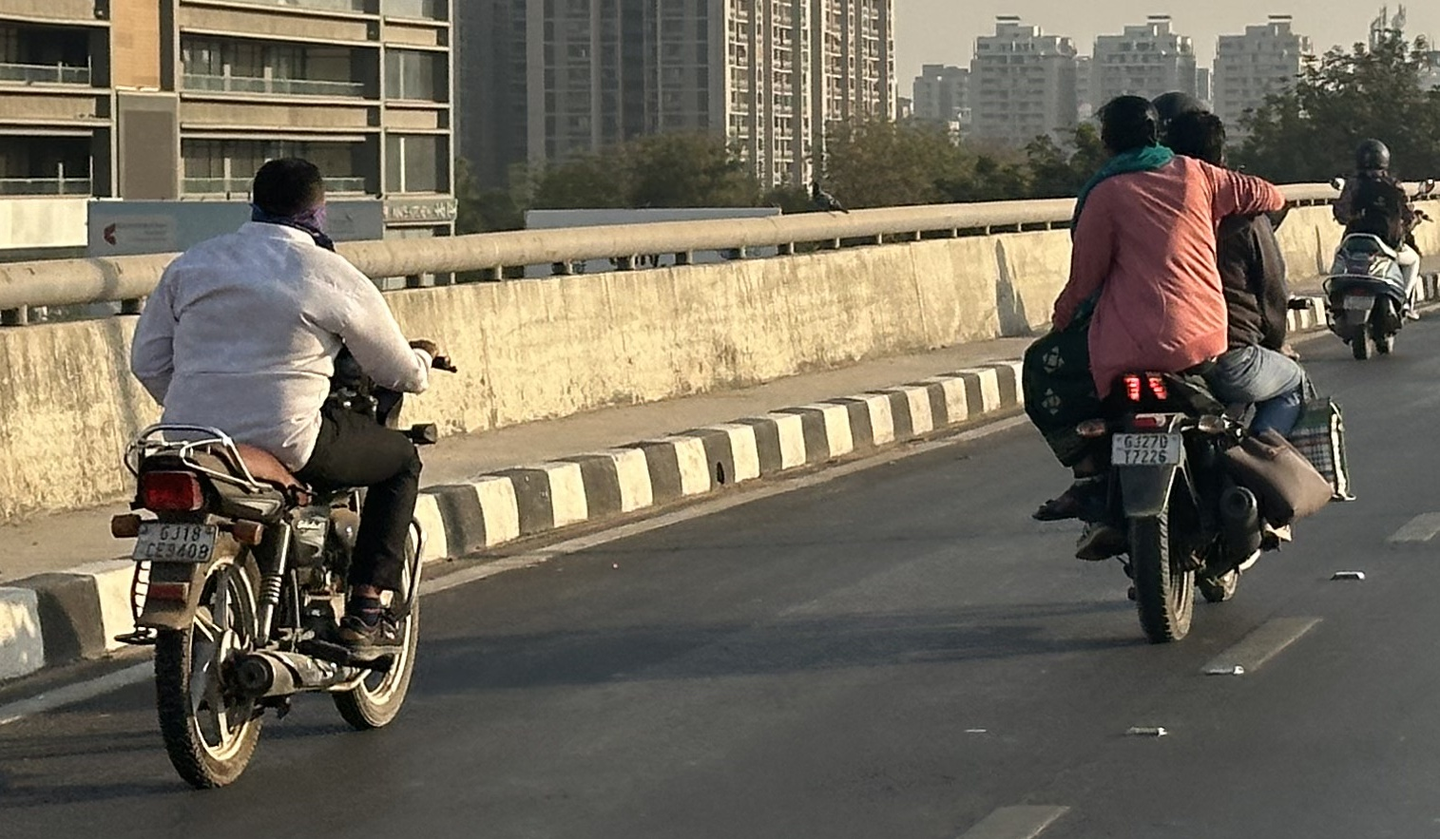BikeWithRider: (96, 146, 466, 801), (1008, 82, 1365, 653), (1312, 129, 1432, 367)
Helmet: (1346, 131, 1397, 180)
NoHelmet: (232, 147, 347, 249), (1153, 99, 1236, 177), (1088, 87, 1165, 162)
